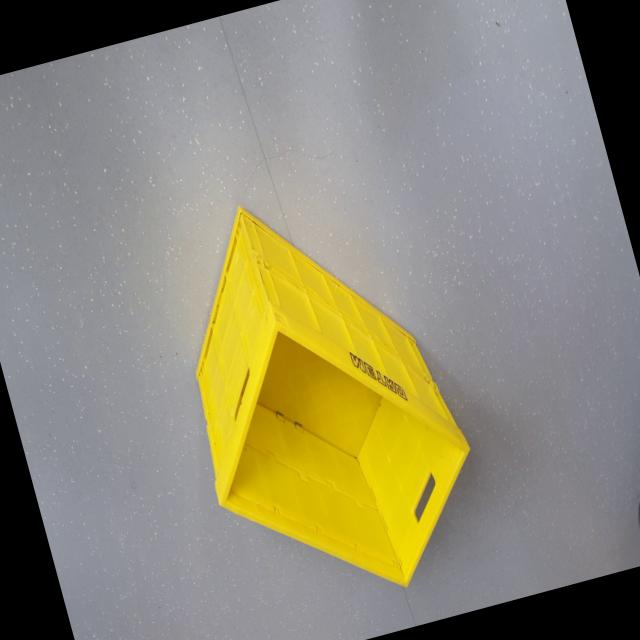box: (130, 153, 509, 640)
